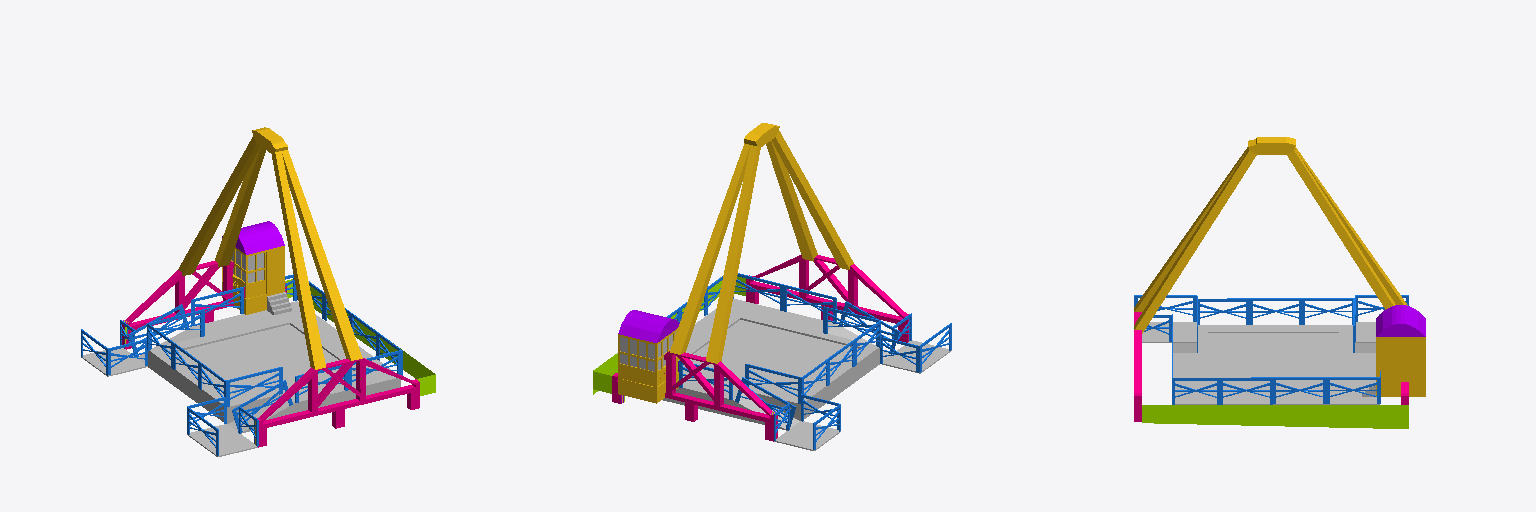
3 renders of one model, left to right at view 1: azimuth 30°, elevation 25°; view 2: azimuth 150°, elevation 25°; view 3: azimuth 270°, elevation 25°, orthographic.
Parts seen in each view (by area): view 1: estructura_Top+Spin; view 2: estructura_Top+Spin; view 3: estructura_Top+Spin.
Boxes of the visible parts, x1,y1,x2,y2 form: estructura_Top+Spin: [81, 127, 435, 456]; estructura_Top+Spin: [593, 123, 951, 450]; estructura_Top+Spin: [1134, 137, 1425, 428].
Bounding box in the file's own units: 11.41 × 11.91 × 12.96.
3 materials, 1 textured.